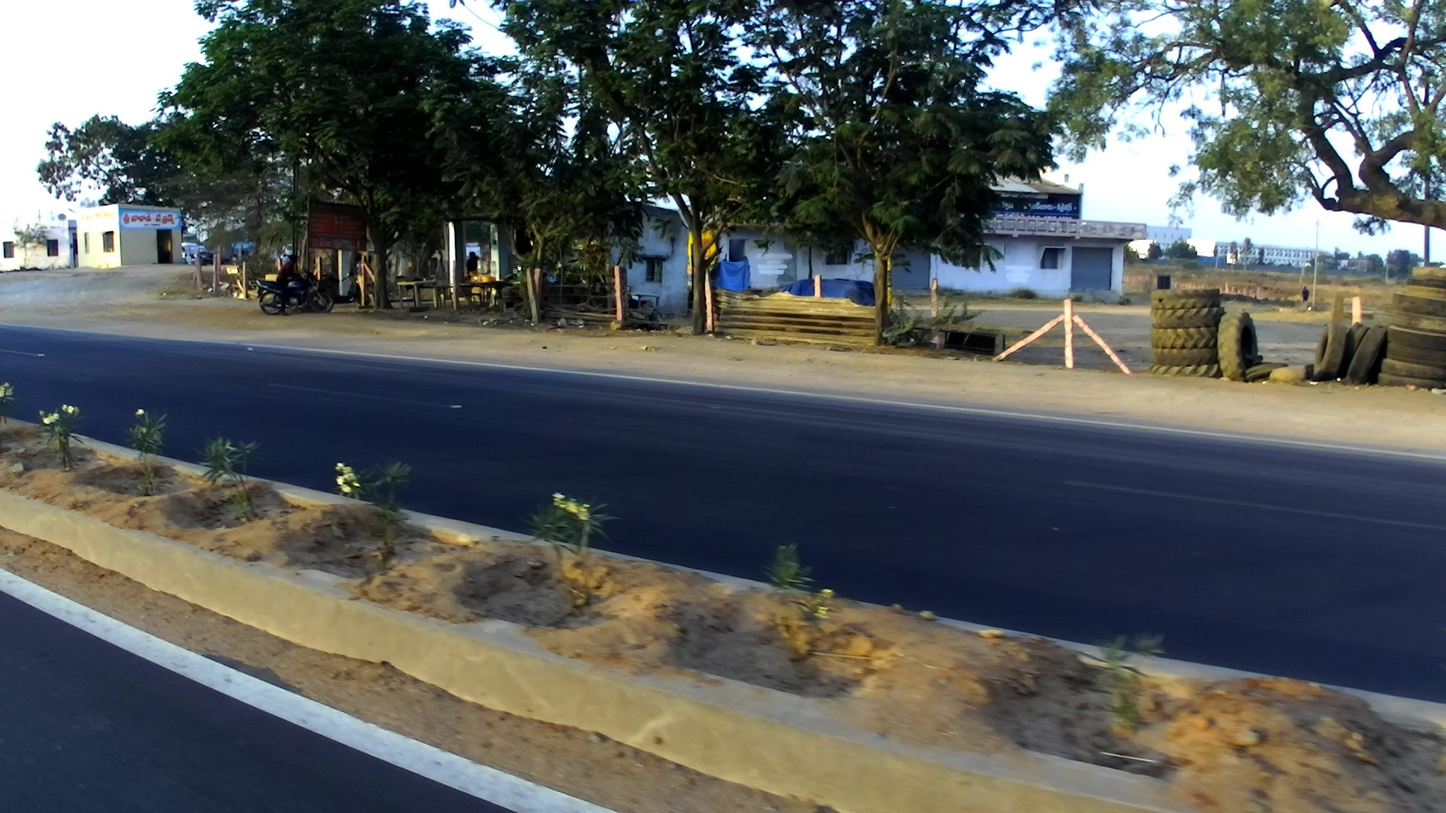motorcycle: (255, 271, 334, 318)
person: (462, 250, 483, 281)
rider: (272, 252, 311, 317)
